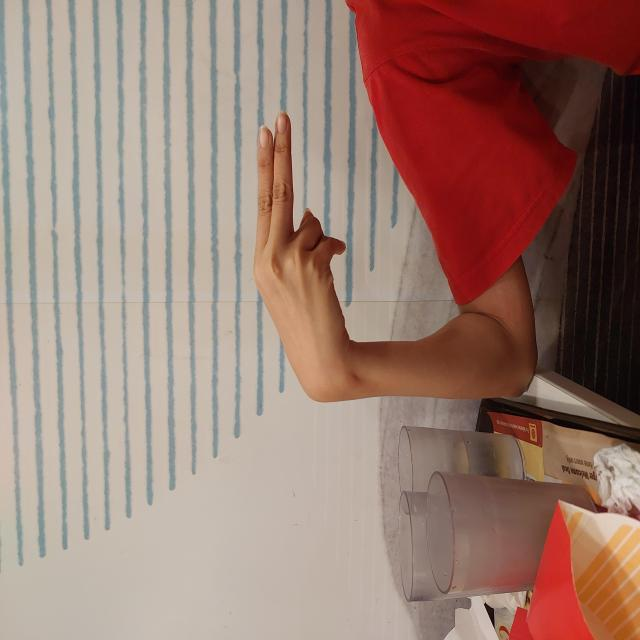H: (236, 250, 532, 347)
